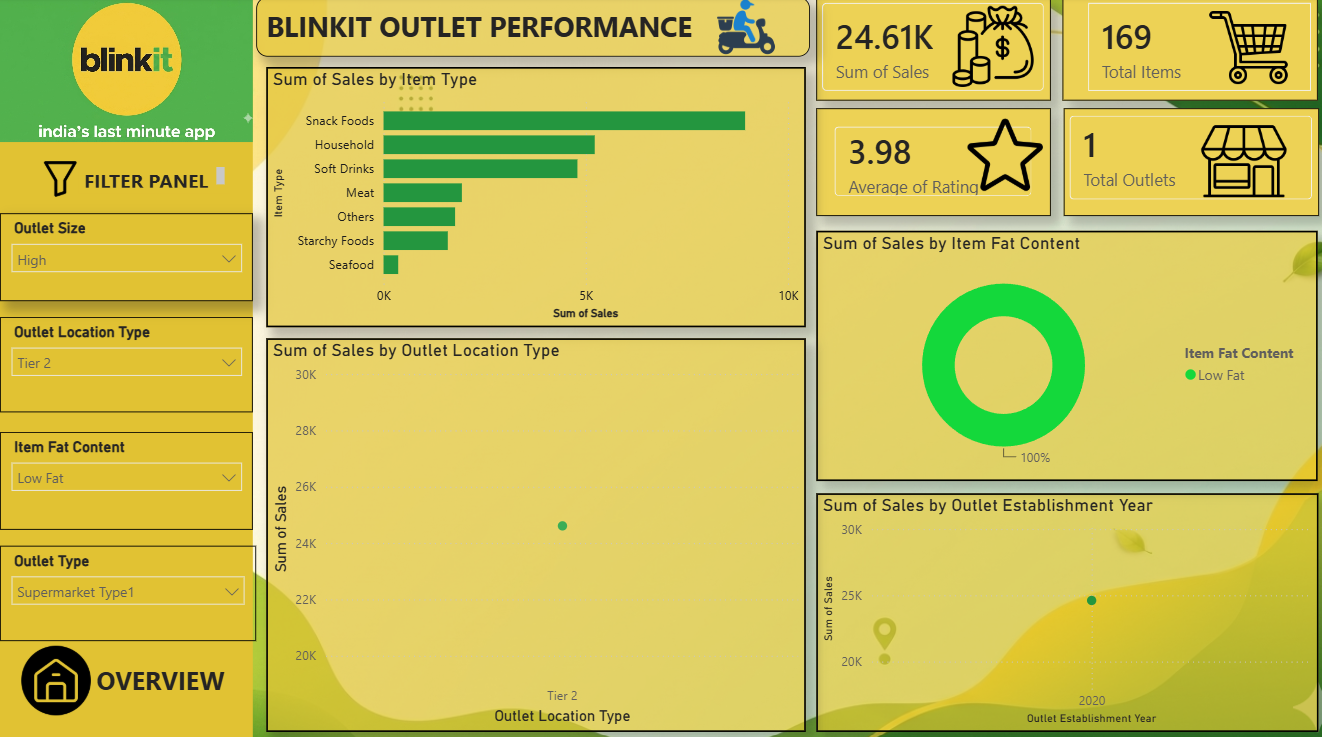

The page's visual inventory and layout, read from the dashboard file:
{"tool":"powerbi","page":{"name":"Page 1","canvas":[1280,720],"ordinal":0},"visuals":[{"type":"textbox","box":[0,140,244.3,580.4],"z":0},{"type":"image","box":[41.2,156.4,34.3,37],"z":1000},{"type":"textbox","box":[75.5,159.2,145.5,30.2],"z":2000},{"type":"slicer","fields":{"Values":["BlinkIT Grocery Data.Outlet Size"]},"box":[0,208.6,244.3,85.1],"z":3000},{"type":"cardVisual","fields":{"Data":["Sum(BlinkIT Grocery Data.Sales)"]},"box":[788.4,0,226.4,99.7],"z":4000},{"type":"textbox","box":[247.3,0,534.5,57.9],"z":5000},{"type":"image","box":[679.2,0,82,57.9],"z":6000},{"type":"cardVisual","fields":{"Data":["Avg(BlinkIT Grocery Data.Rating)"]},"box":[788.4,107.8,226.4,103.8],"z":7000},{"type":"cardVisual","fields":{"Data":["Count(BlinkIT Grocery Data.Item Identifier)"]},"box":[1025.6,0,246.6,99.7],"z":8000},{"type":"cardVisual","fields":{"Data":["Count(BlinkIT Grocery Data.Outlet Identifier)"]},"box":[1026.9,107.8,246.6,103.8],"z":9000},{"type":"image","box":[20.5,623.7,67.6,72.4],"z":10000},{"type":"image","box":[0,0,244.3,140],"z":11000},{"type":"image","box":[912.1,8.4,92.9,78.4],"z":12000},{"type":"image","box":[1158.2,8.4,92.9,80.8],"z":13000},{"type":"image","box":[1158.2,103.8,84.5,109.8],"z":14000},{"type":"lineChart","fields":{"Category":["BlinkIT Grocery Data.Outlet Establishment Year"],"Y":["Sum(BlinkIT Grocery Data.Sales)"]},"box":[787.8,479,485,230.4],"z":15000},{"type":"clusteredBarChart","fields":{"Category":["BlinkIT Grocery Data.Item Type"],"Y":["Sum(BlinkIT Grocery Data.Sales)"]},"box":[257,67.6,521.2,250.9],"z":16000},{"type":"image","box":[928.5,115.9,82.2,72.8],"z":17000},{"type":"slicer","fields":{"Values":["BlinkIT Grocery Data.Outlet Location Type"]},"box":[0,308.7,244.3,91.9],"z":18000},{"type":"slicer","fields":{"Values":["BlinkIT Grocery Data.Item Fat Content"]},"box":[0,419.9,244.3,94.7],"z":19000},{"type":"slicer","fields":{"Values":["BlinkIT Grocery Data.Outlet Type"]},"box":[0,529.7,247,91.9],"z":20000},{"type":"donutChart","fields":{"Category":["BlinkIT Grocery Data.Item Fat Content"],"Y":["Sum(BlinkIT Grocery Data.Sales)"]},"box":[787.8,225.6,483.8,241.3],"z":21000},{"type":"textbox","box":[88.1,638.2,159.3,43.4],"z":22000},{"type":"stackedAreaChart","fields":{"Category":["BlinkIT Grocery Data.Outlet Location Type"],"Y":["Sum(BlinkIT Grocery Data.Sales)"]},"box":[257,329.4,521.2,380],"z":23000}]}

Visuals, with their boxes in screenshot pixels (x1, y1, x2, y2), scaled from the page's 1280x720 canvas onto the 1322x737 screenshot:
textbox: crop(0, 143, 252, 736)
image: crop(43, 160, 78, 198)
textbox: crop(78, 163, 228, 194)
slicer - BlinkIT Grocery Data.Outlet Size: crop(0, 214, 252, 301)
cardVisual - Sum(BlinkIT Grocery Data.Sales): crop(814, 0, 1048, 102)
textbox: crop(255, 0, 807, 59)
image: crop(701, 0, 786, 59)
cardVisual - Avg(BlinkIT Grocery Data.Rating): crop(814, 110, 1048, 217)
cardVisual - Count(BlinkIT Grocery Data.Item Identifier): crop(1059, 0, 1314, 102)
cardVisual - Count(BlinkIT Grocery Data.Outlet Identifier): crop(1061, 110, 1315, 217)
image: crop(21, 638, 91, 713)
image: crop(0, 0, 252, 143)
image: crop(942, 9, 1038, 89)
image: crop(1196, 9, 1292, 91)
image: crop(1196, 106, 1283, 219)
lineChart - BlinkIT Grocery Data.Outlet Establishment Year x Sum(BlinkIT Grocery Data.Sales): crop(814, 490, 1315, 726)
clusteredBarChart - BlinkIT Grocery Data.Item Type x Sum(BlinkIT Grocery Data.Sales): crop(265, 69, 804, 326)
image: crop(959, 119, 1044, 193)
slicer - BlinkIT Grocery Data.Outlet Location Type: crop(0, 316, 252, 410)
slicer - BlinkIT Grocery Data.Item Fat Content: crop(0, 430, 252, 527)
slicer - BlinkIT Grocery Data.Outlet Type: crop(0, 542, 255, 636)
donutChart - BlinkIT Grocery Data.Item Fat Content x Sum(BlinkIT Grocery Data.Sales): crop(814, 231, 1313, 478)
textbox: crop(91, 653, 256, 698)
stackedAreaChart - BlinkIT Grocery Data.Outlet Location Type x Sum(BlinkIT Grocery Data.Sales): crop(265, 337, 804, 726)
